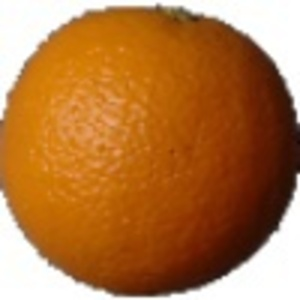laranja: (3, 4, 298, 298)
